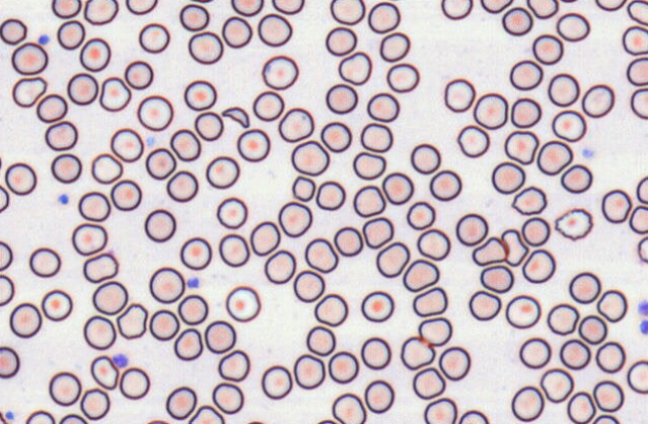PLT: (636, 297, 648, 317), (112, 353, 129, 367), (56, 193, 71, 207), (185, 275, 200, 289), (638, 318, 648, 336), (38, 33, 51, 46), (145, 135, 157, 146), (4, 410, 14, 420)
RBC: (290, 139, 329, 176), (536, 139, 573, 175), (225, 285, 261, 322), (149, 266, 185, 303), (261, 54, 298, 90), (137, 94, 173, 131), (278, 106, 314, 142), (375, 241, 410, 278), (473, 92, 508, 129), (554, 207, 593, 240), (539, 367, 574, 403), (277, 201, 312, 237), (92, 280, 128, 315), (402, 258, 439, 292), (11, 41, 48, 75), (400, 335, 435, 370), (304, 237, 338, 273), (510, 385, 544, 421), (505, 294, 541, 328), (187, 30, 223, 64), (521, 248, 555, 283), (83, 314, 116, 350), (9, 302, 42, 338), (71, 222, 107, 255), (116, 302, 148, 339), (504, 130, 538, 164), (338, 51, 372, 85), (236, 128, 270, 162), (205, 155, 239, 189), (313, 293, 348, 326), (110, 127, 143, 162), (48, 371, 81, 406), (551, 109, 586, 142), (257, 13, 292, 46), (581, 83, 614, 118), (293, 353, 325, 389), (491, 161, 525, 194), (455, 212, 488, 246), (179, 236, 212, 270), (547, 72, 580, 106), (99, 76, 131, 111), (165, 385, 197, 420), (264, 249, 296, 284), (82, 252, 118, 283), (249, 220, 280, 256), (412, 366, 445, 399), (352, 184, 385, 217), (456, 124, 489, 157), (438, 346, 470, 380), (416, 228, 450, 260), (360, 290, 394, 322), (183, 79, 217, 111), (443, 78, 475, 112), (144, 208, 176, 242), (11, 76, 46, 107), (331, 392, 366, 423), (261, 364, 292, 399), (79, 37, 110, 72), (412, 286, 447, 317), (601, 188, 632, 223), (511, 185, 547, 215), (327, 350, 359, 383), (4, 162, 36, 195), (217, 349, 250, 381), (568, 271, 601, 303), (90, 152, 123, 184), (293, 269, 325, 302), (166, 169, 198, 202), (381, 171, 413, 204), (468, 289, 501, 321), (204, 320, 236, 353), (169, 128, 201, 161), (546, 303, 579, 335), (367, 1, 400, 33), (509, 59, 543, 90), (218, 233, 249, 267), (362, 216, 394, 248), (212, 382, 244, 414), (429, 169, 461, 201), (559, 338, 591, 370), (592, 380, 624, 412), (67, 72, 98, 105), (596, 289, 627, 322), (216, 196, 247, 229), (221, 15, 252, 48), (360, 336, 391, 369), (119, 366, 150, 399), (418, 316, 452, 346), (364, 379, 394, 413), (145, 147, 176, 179), (41, 289, 72, 321), (410, 142, 441, 174), (519, 337, 551, 368), (138, 22, 170, 53), (110, 179, 141, 211), (252, 90, 284, 121), (325, 83, 357, 114), (320, 121, 352, 152), (29, 246, 61, 277), (80, 387, 110, 420), (173, 327, 203, 360), (386, 62, 419, 92), (44, 120, 77, 150), (360, 122, 393, 152), (366, 92, 399, 122), (479, 264, 513, 293), (352, 151, 386, 180), (556, 12, 590, 41), (532, 33, 563, 64), (177, 294, 208, 325), (510, 97, 541, 128), (379, 31, 410, 62), (566, 391, 596, 423), (560, 163, 592, 193), (50, 153, 82, 183), (325, 26, 357, 56), (149, 308, 179, 340), (595, 341, 625, 373), (78, 191, 110, 221), (501, 6, 533, 35), (333, 226, 363, 256), (315, 180, 345, 210), (306, 325, 335, 356), (36, 93, 67, 122), (194, 110, 223, 141), (423, 397, 457, 423), (83, 0, 118, 25), (330, 0, 365, 25), (578, 314, 607, 344), (521, 216, 550, 246), (56, 19, 85, 49), (406, 201, 435, 230), (124, 60, 153, 89), (179, 3, 209, 31), (622, 25, 647, 55), (626, 359, 647, 394), (0, 17, 27, 44), (187, 404, 224, 423), (0, 346, 20, 378), (626, 56, 647, 86), (291, 175, 315, 201), (526, 0, 558, 19), (440, 0, 472, 19), (630, 87, 647, 119), (629, 204, 647, 234), (51, 0, 81, 18), (230, 0, 263, 16), (627, 0, 648, 25), (271, 0, 304, 14), (0, 274, 14, 306), (125, 0, 157, 14), (480, 0, 513, 13), (458, 409, 488, 423), (25, 409, 55, 423), (0, 240, 12, 270), (595, 0, 626, 11), (636, 175, 647, 204), (58, 413, 87, 423), (637, 235, 647, 262), (0, 184, 9, 212), (592, 414, 619, 423), (316, 418, 338, 423), (245, 419, 266, 424), (144, 419, 170, 423), (188, 0, 214, 3), (560, 0, 578, 3)
Schistocyte: (471, 235, 509, 265), (502, 228, 529, 267), (90, 356, 119, 391), (222, 105, 250, 128)
